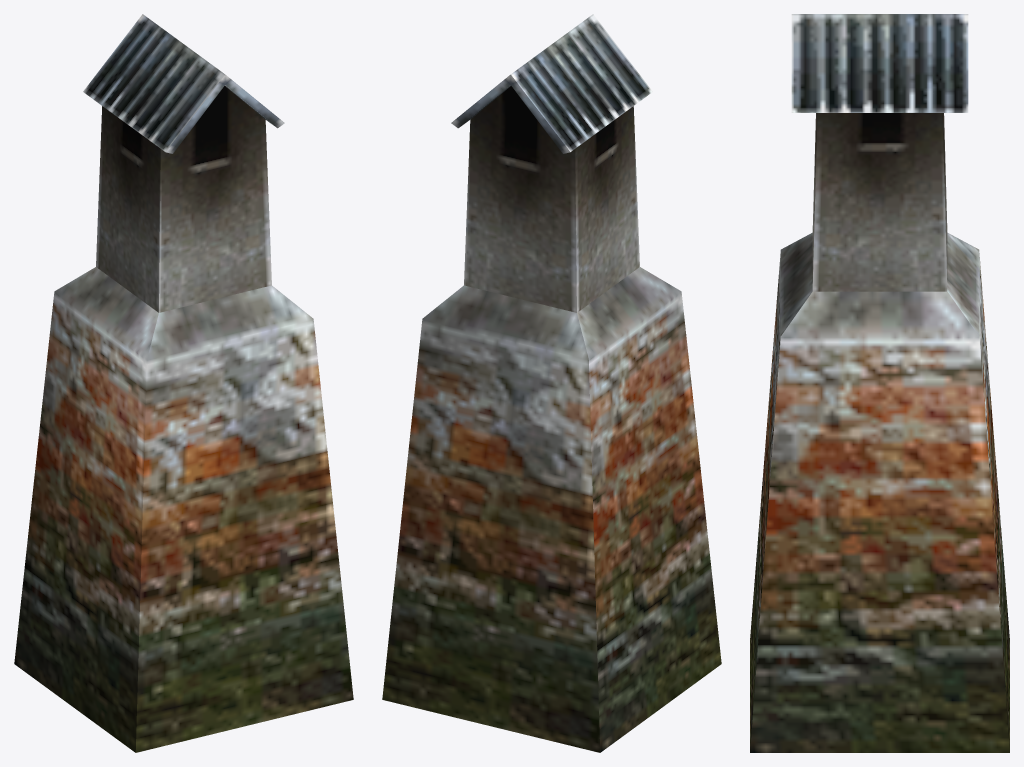
File: loc2_17.glb
3 views of the same model, side by side, from view 1: azimuth 30°, elevation 25°; view 2: azimuth 150°, elevation 25°; view 3: azimuth 270°, elevation 25° (orthographic). The views are drawn at different scales.
Parts seen in each view (by area): view 1: loc2_17-col; view 2: loc2_17-col; view 3: loc2_17-col.
Part boxes in pixels (bbox=[...]): loc2_17-col: bbox=[14, 14, 353, 752]; loc2_17-col: bbox=[382, 14, 721, 752]; loc2_17-col: bbox=[750, 14, 1009, 752].
Size of the model in its own units: 1.18 by 3.29 by 1.14.
1 material, 1 textured.
